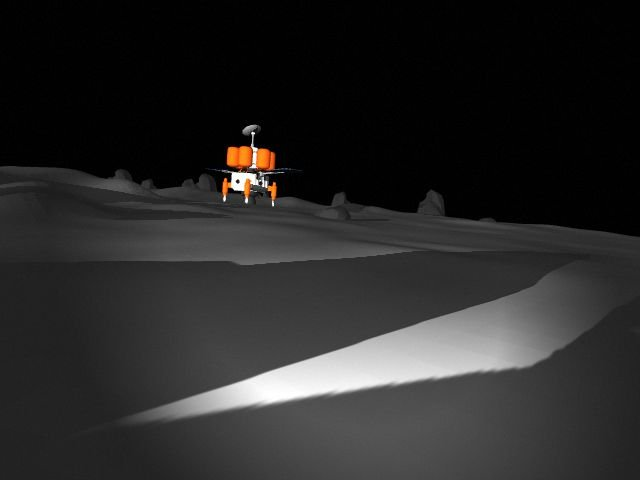homebase: (203, 123, 302, 210)
